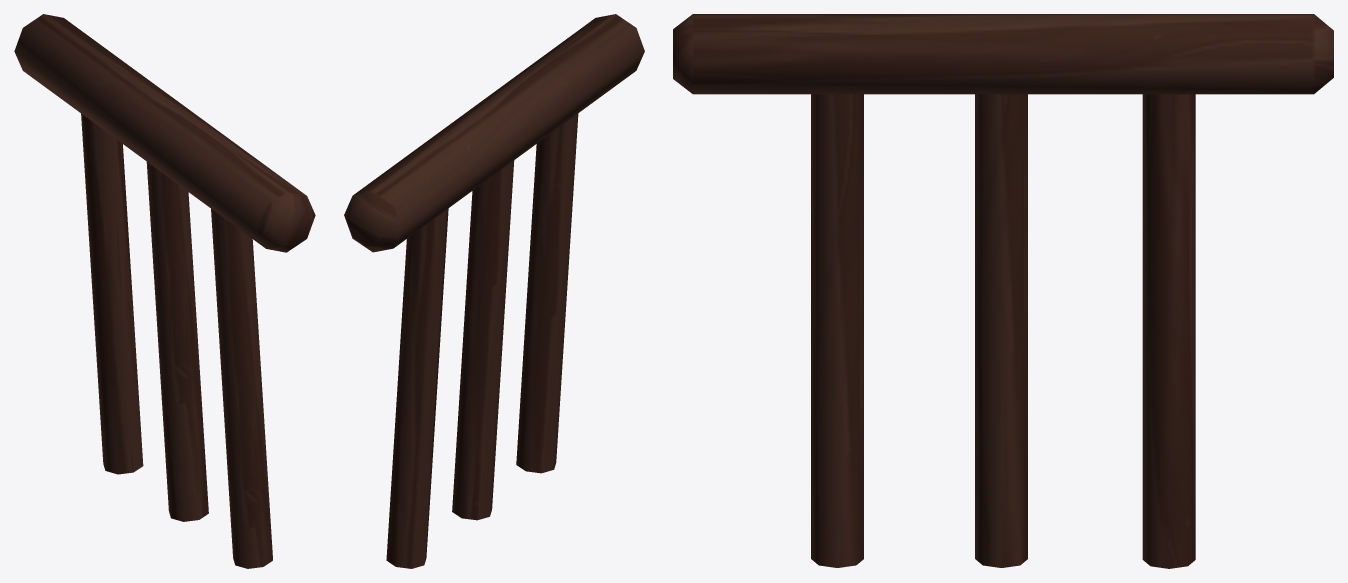
The model's file is Chair.fbx.
The picture shows the model from 3 angles, left to right: view 1: azimuth 30°, elevation 25°; view 2: azimuth 150°, elevation 25°; view 3: azimuth 270°, elevation 25°; orthographic projection. The views are drawn at different scales.
Visible parts, largest first — view 1: Chair; view 2: Chair; view 3: Chair.
Part boxes in pixels (left/top/right/bottom): Chair: left=14, top=14, right=315, bottom=568; Chair: left=344, top=14, right=644, bottom=568; Chair: left=673, top=14, right=1333, bottom=568.
Size of the model in its own units: 31.45 by 178 by 201.
Materials: 1 (1 with a texture image).
